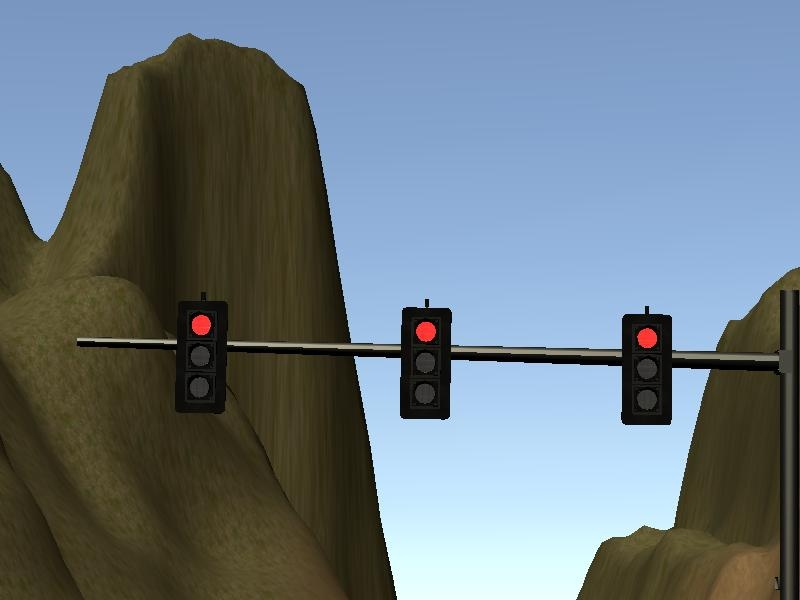red: (612, 302, 681, 431), (396, 300, 457, 424), (170, 296, 231, 418)
